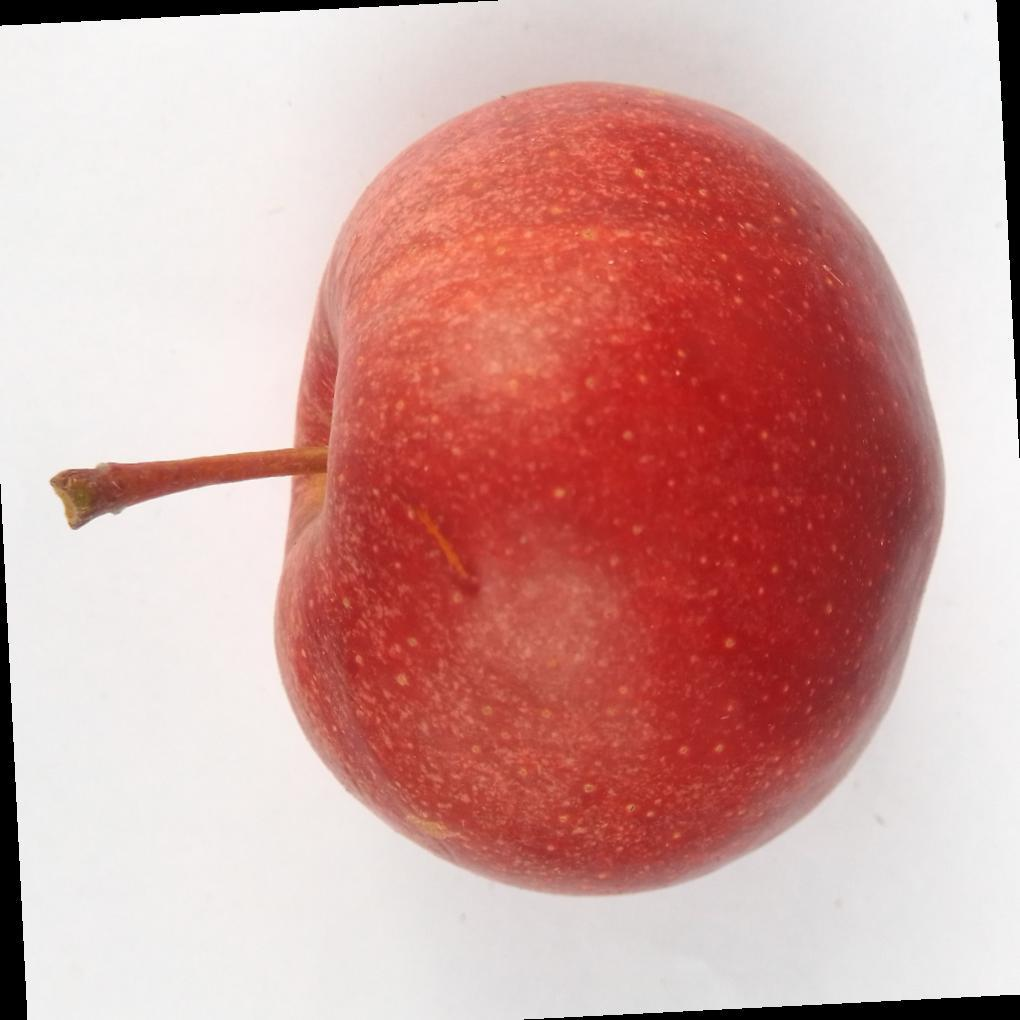FreshGuava: (55, 82, 947, 903)
